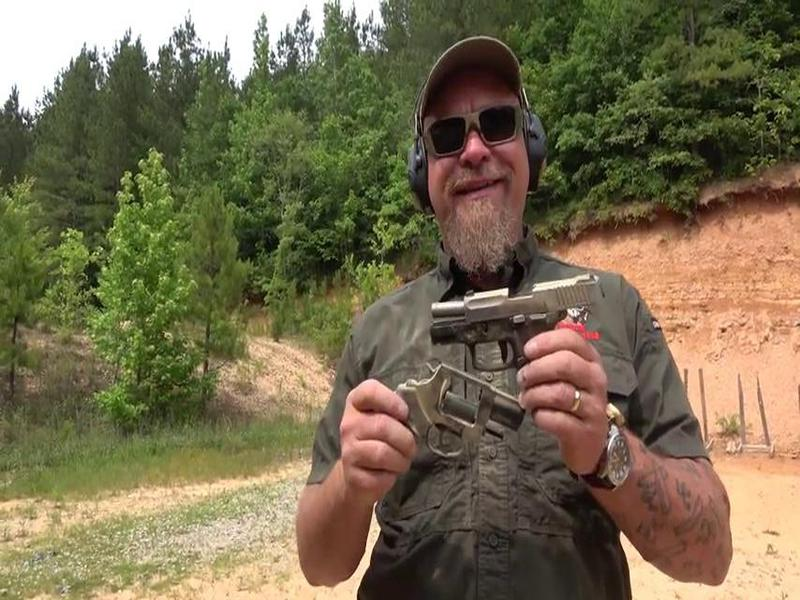Pistola: (423, 265, 623, 394)
Revolver: (360, 346, 523, 485)
